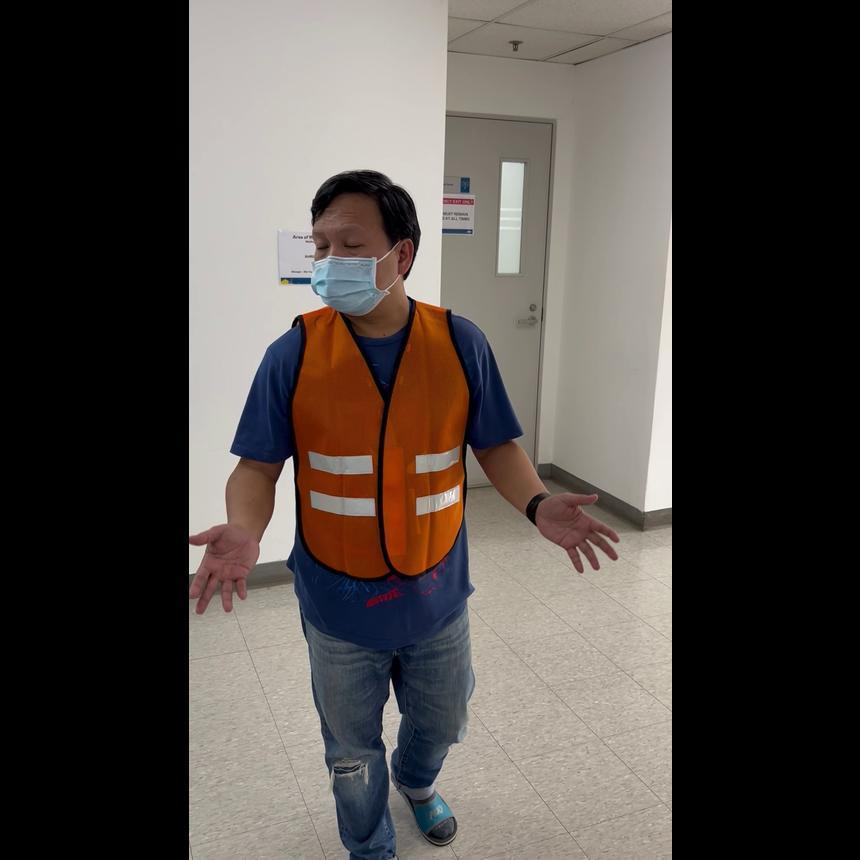No-gloves: (527, 489, 619, 575), (184, 518, 261, 614)
